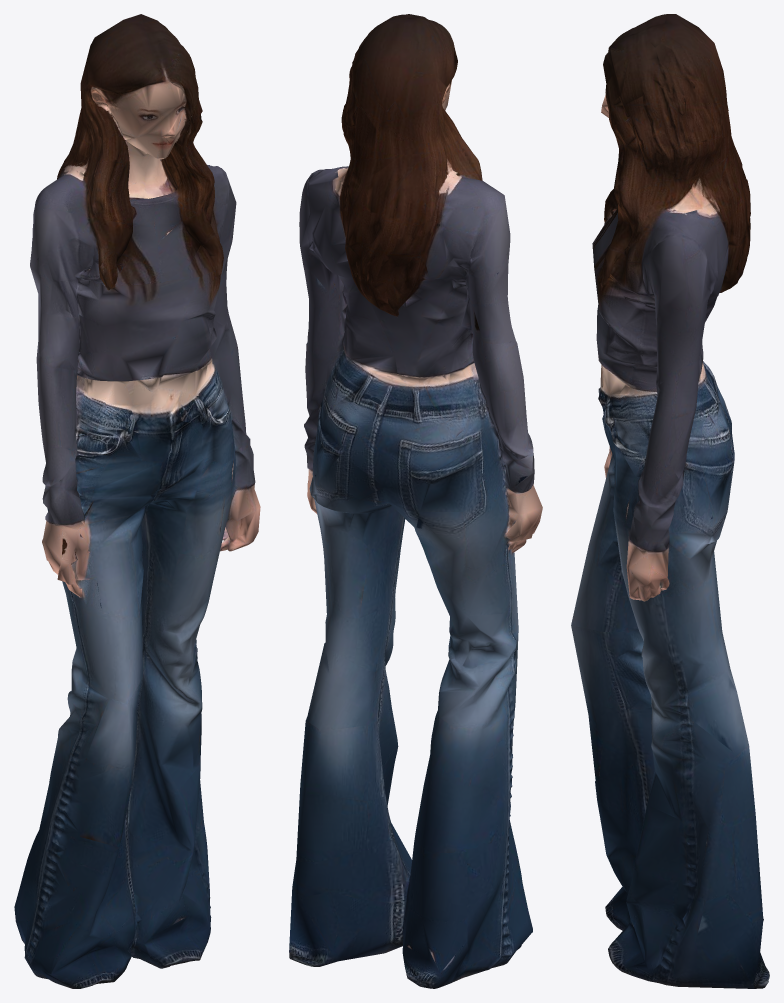
File: woman-rescue.glb
The picture shows the model from 3 angles, left to right: view 1: azimuth 30°, elevation 25°; view 2: azimuth 150°, elevation 25°; view 3: azimuth 270°, elevation 25°; orthographic projection.
Parts seen in each view (by area): view 1: Object_5, Object_6, Object_7; view 2: Object_6, Object_7, Object_5; view 3: Object_6, Object_5, Object_7.
Boxes of the visible parts, x1,y1,x2,y2 form: Object_5: [24, 23, 260, 988]; Object_6: [14, 14, 252, 979]; Object_7: [24, 87, 253, 978]; Object_6: [289, 14, 532, 988]; Object_7: [300, 31, 523, 968]; Object_5: [304, 14, 542, 945]; Object_6: [597, 14, 769, 988]; Object_5: [571, 14, 722, 986]; Object_7: [593, 48, 705, 983].
Bounding box in the file's own units: 0.468 × 1.9 × 0.3659.
Materials: 1 (1 with a texture image).
